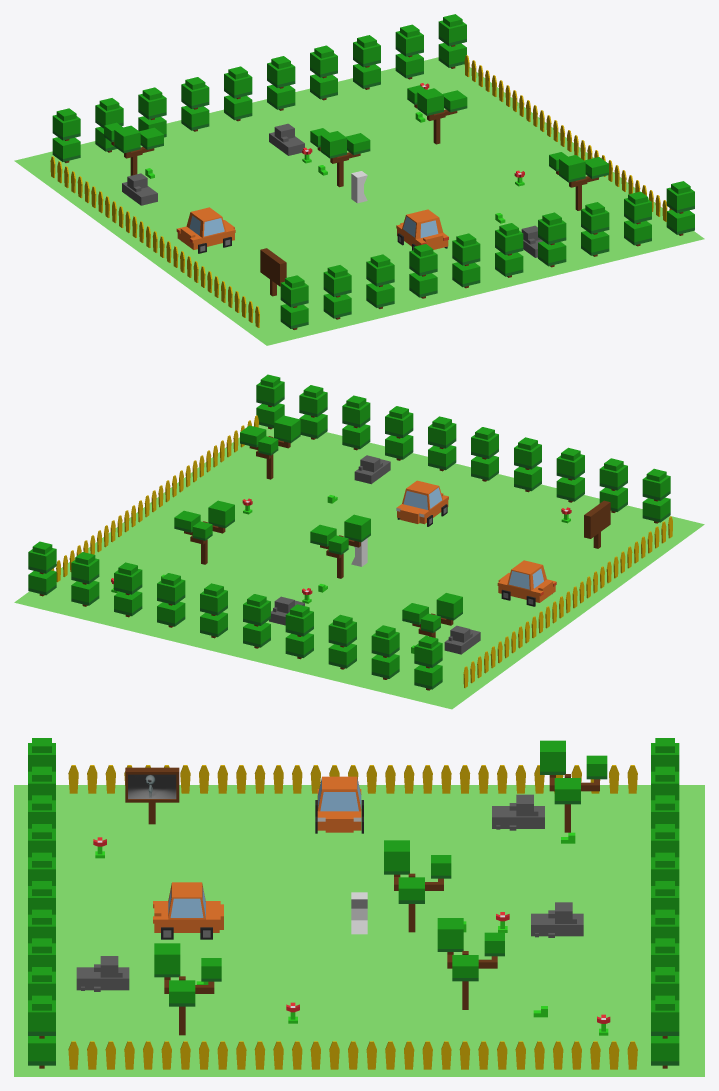
The model's file is portifolio.glb.
3 views of the same model, one above another, from view 1: azimuth 30°, elevation 25°; view 2: azimuth 150°, elevation 25°; view 3: azimuth 270°, elevation 25° (orthographic). The views are drawn at different scales.
Parts seen in each view (by area): view 1: BigTree.001; view 2: BigTree.001; view 3: BigTree.001, Plane.
Part boxes in pixels (x1=…): BigTree.001: x1=14, y1=14, x2=704, y2=345; BigTree.001: x1=14, y1=374, x2=704, y2=709; BigTree.001: x1=14, y1=738, x2=704, y2=1076; Plane: x1=351, y1=892, x2=367, y2=934.
Size of the model in its own units: 52.39 by 6.44 by 52.39.
16 materials, 1 textured.
